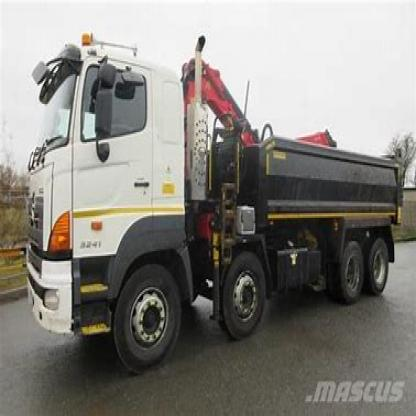dump_truck: (27, 25, 412, 363)
